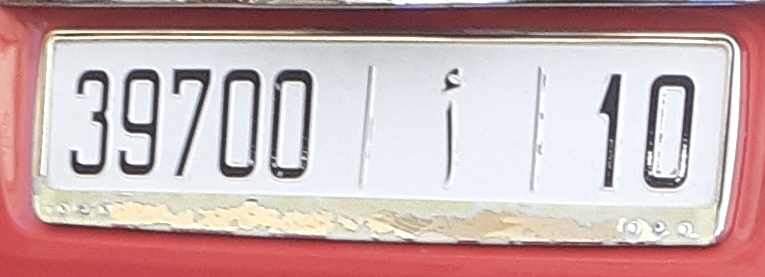0: (638, 68, 704, 199), (263, 58, 325, 184), (213, 60, 267, 182)
1: (582, 60, 627, 195)
3: (59, 61, 115, 179)
7: (168, 59, 219, 181)
9: (114, 59, 168, 181)
a: (425, 58, 476, 193)
